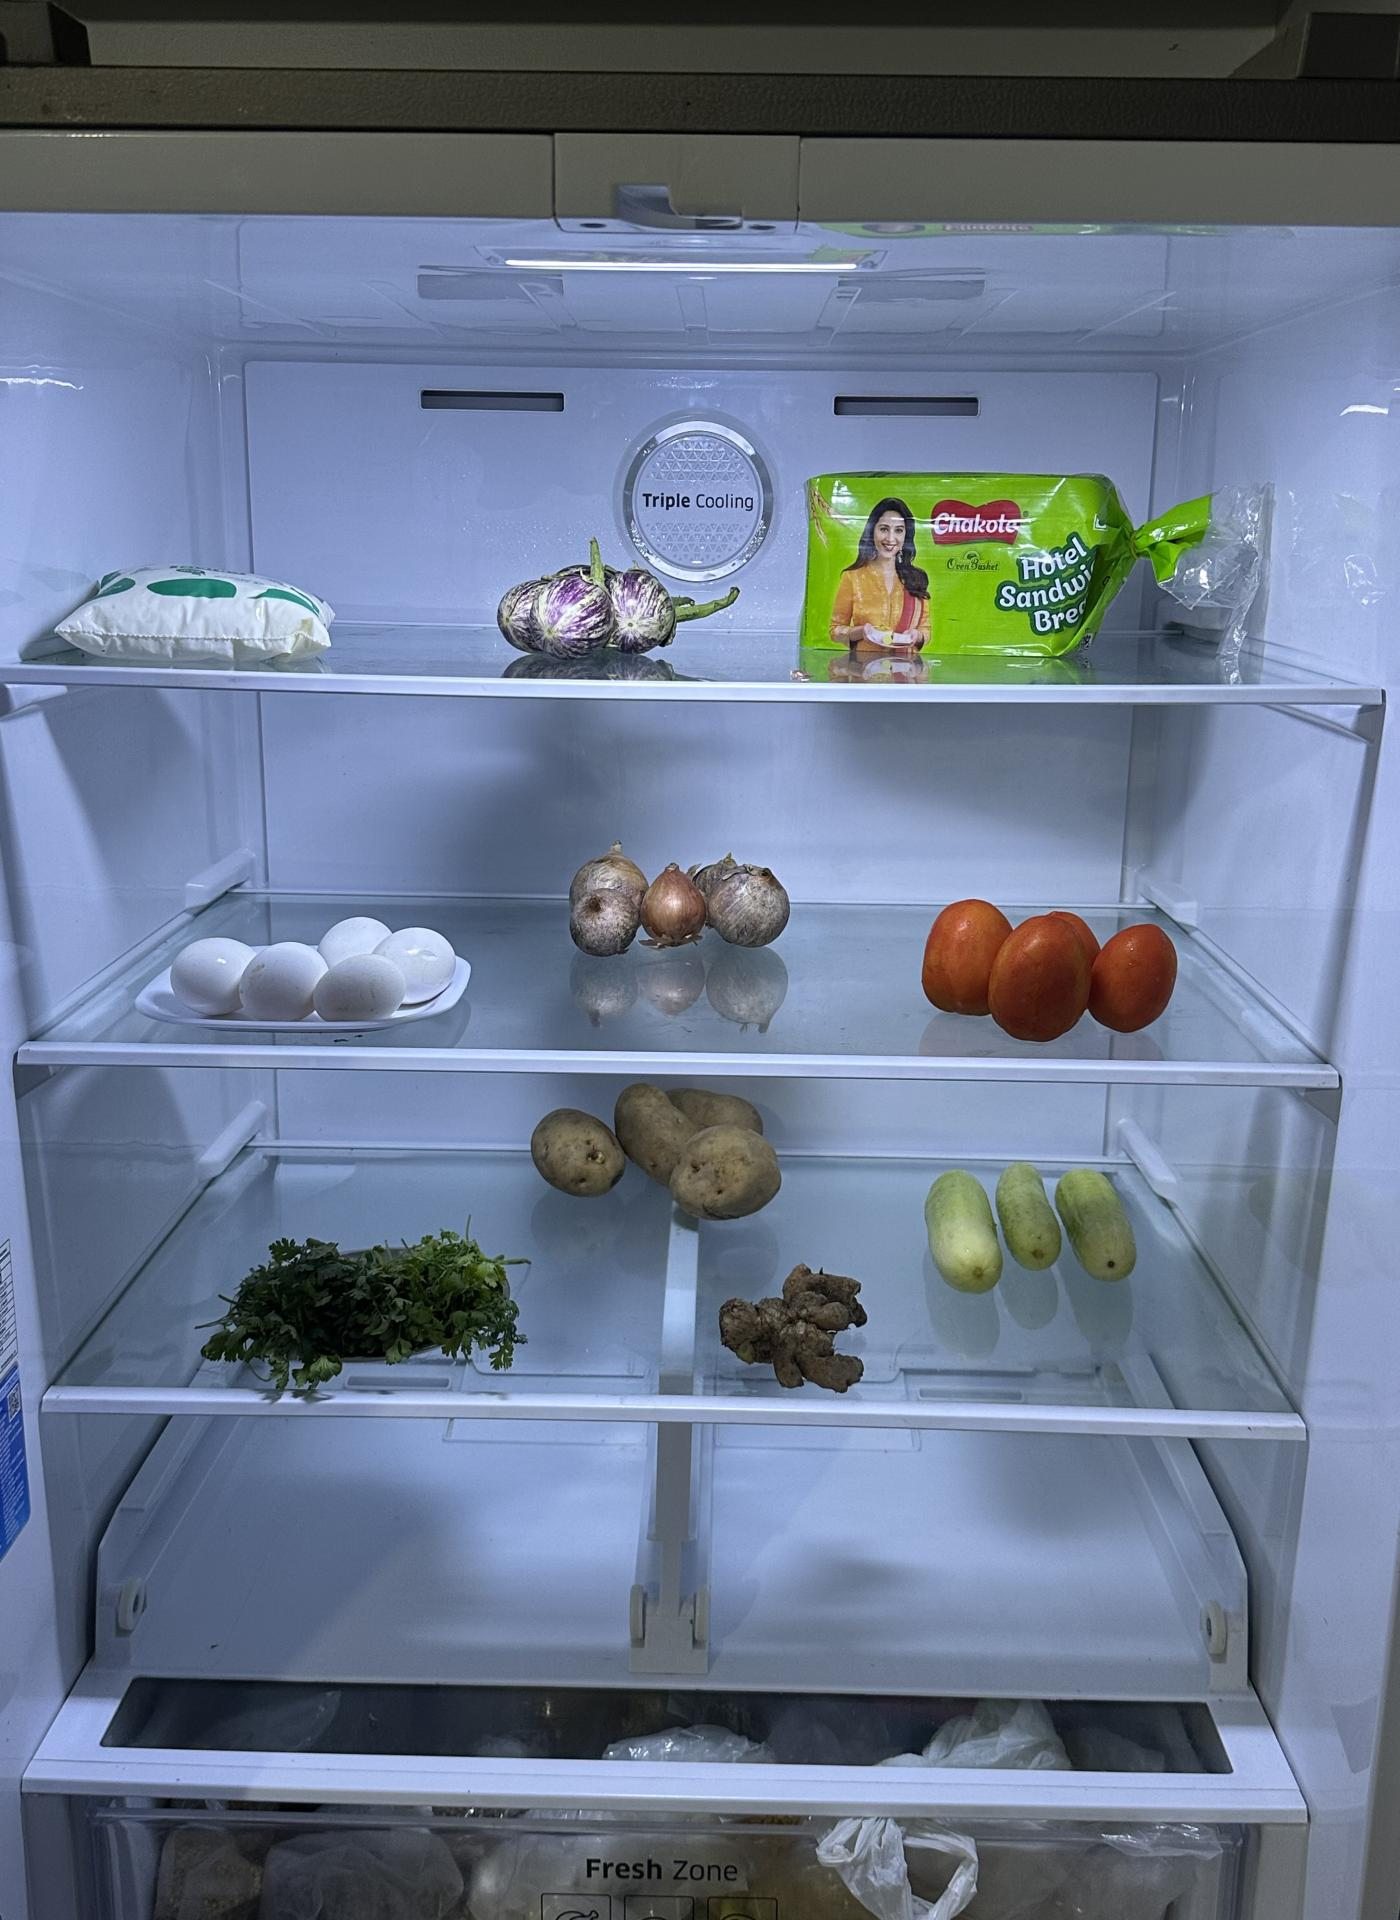bread: (804, 473, 1148, 687)
brinjal: (494, 558, 716, 672)
coriander: (215, 1219, 523, 1379)
cucumber: (926, 1148, 1144, 1288)
egg: (163, 906, 465, 1026)
ginger: (713, 1254, 872, 1395)
milk: (16, 552, 337, 669)
onion: (562, 832, 792, 951)
potato: (529, 1072, 793, 1215)
tomato: (920, 896, 1185, 1049)
